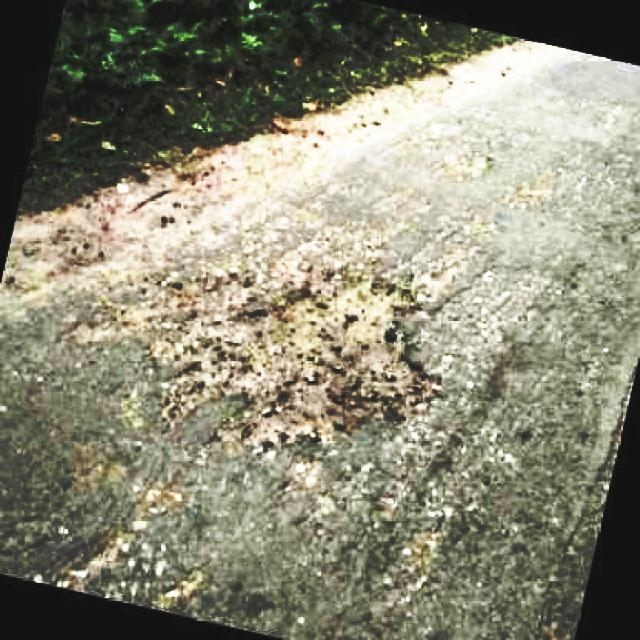pothole: (157, 268, 438, 448)
